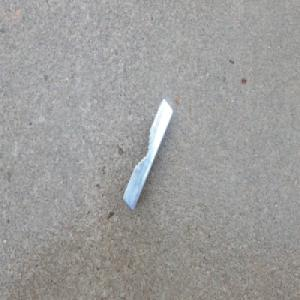ClampPart: (123, 98, 174, 211)
